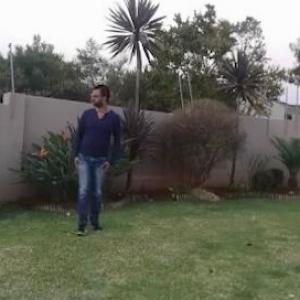follow: (70, 80, 116, 237)
